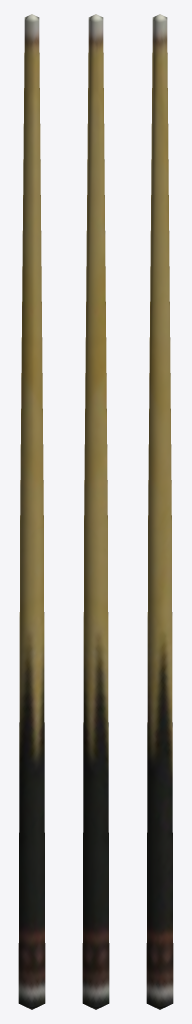
File: snookerCue.glb
The picture shows the model from 3 angles, left to right: view 1: azimuth 30°, elevation 25°; view 2: azimuth 150°, elevation 25°; view 3: azimuth 330°, elevation 25°; orthographic projection.
Visible parts, largest first — view 1: snookerCue; view 2: snookerCue; view 3: snookerCue.
Part boxes in pixels (left/top/right/bottom): snookerCue: left=18, top=14, right=45, bottom=1009; snookerCue: left=82, top=14, right=109, bottom=1009; snookerCue: left=146, top=14, right=173, bottom=1009.
Bounding box in the file's own units: 0.0448 × 1.6 × 0.0388.
Materials: 1 (1 with a texture image).
